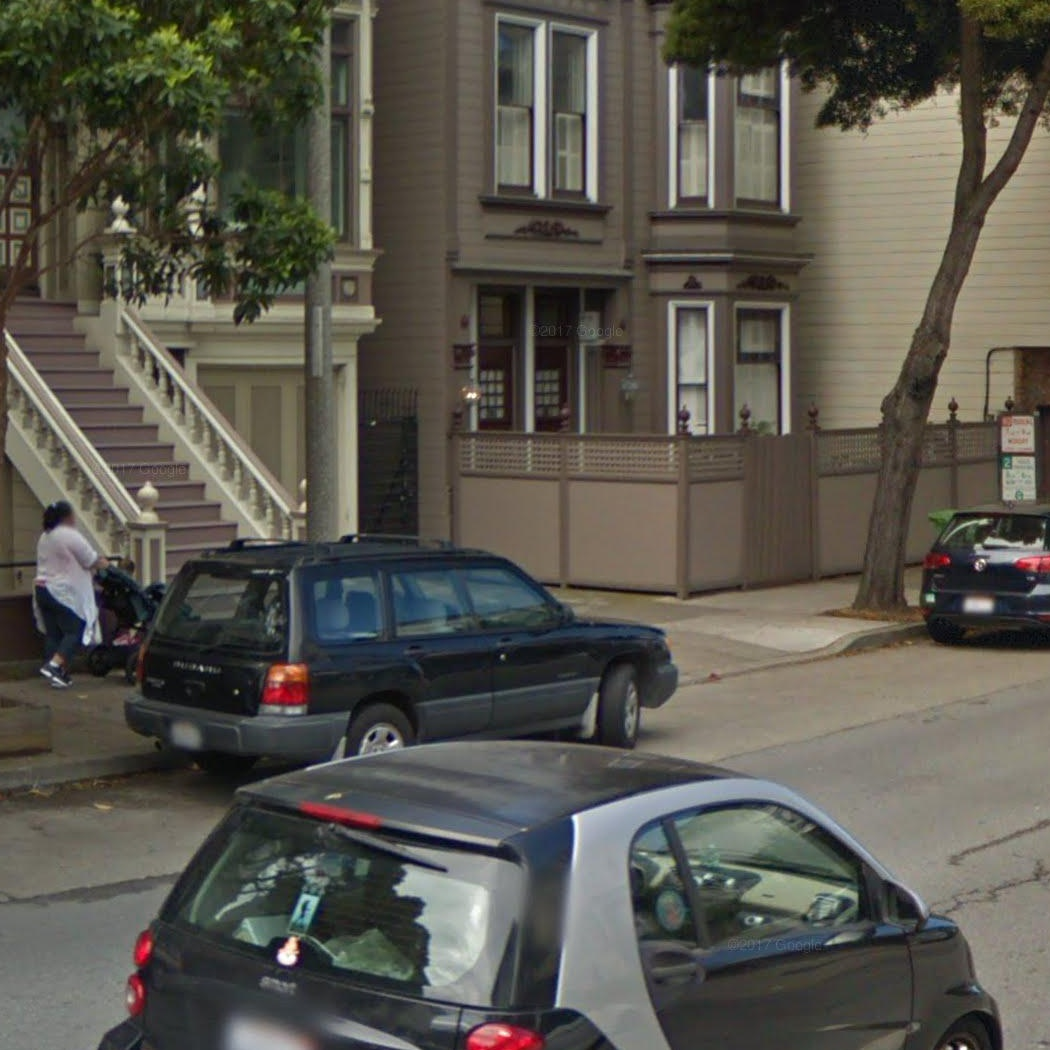2 Hour Parking: (1000, 454, 1040, 501)
No Parking: (998, 412, 1037, 454)
